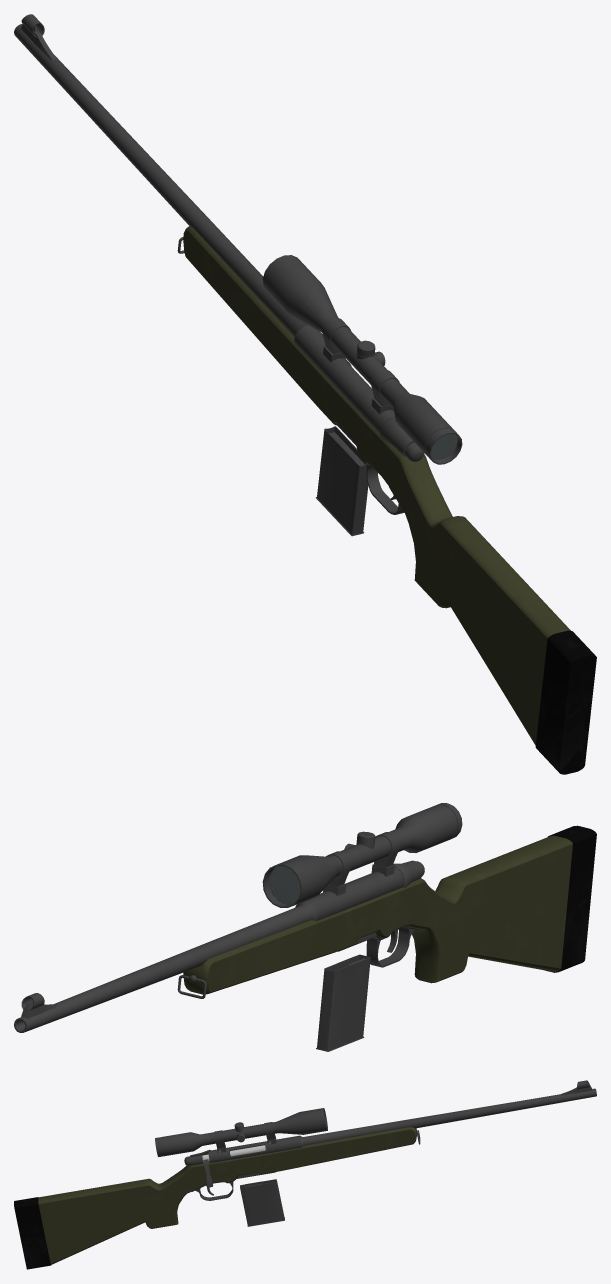
The model's file is ge_sniper.gltf.
The picture shows the model from 3 angles, top to bottom: view 1: azimuth 30°, elevation 25°; view 2: azimuth 150°, elevation 25°; view 3: azimuth 270°, elevation 25°; orthographic projection. The views are drawn at different scales.
Visible parts, largest first — view 1: Stock, Barrel, Scope, Magazine; view 2: Stock, Barrel, Scope, Magazine, IronSight; view 3: Stock, Barrel, Scope, Magazine, Bolt.
Boxes of the visible parts, x1=… form: Stock: x1=183, y1=226, x2=596, y2=774; Barrel: x1=14, y1=24, x2=414, y2=514; Scope: x1=262, y1=255, x2=462, y2=464; Magazine: x1=315, y1=426, x2=368, y2=536; Stock: x1=183, y1=825, x2=596, y2=994; Barrel: x1=14, y1=860, x2=422, y2=1032; Scope: x1=262, y1=803, x2=462, y2=907; Magazine: x1=316, y1=954, x2=370, y2=1051; IronSight: x1=21, y1=993, x2=57, y2=1018; Stock: x1=14, y1=1127, x2=417, y2=1269; Barrel: x1=190, y1=1088, x2=596, y2=1200; Scope: x1=155, y1=1108, x2=327, y2=1157; Magazine: x1=240, y1=1179, x2=284, y2=1226; Bolt: x1=184, y1=1145, x2=265, y2=1187.
Size of the model in its own units: 0.0568 by 0.3966 by 1.12.
Materials: 1 (1 with a texture image).
